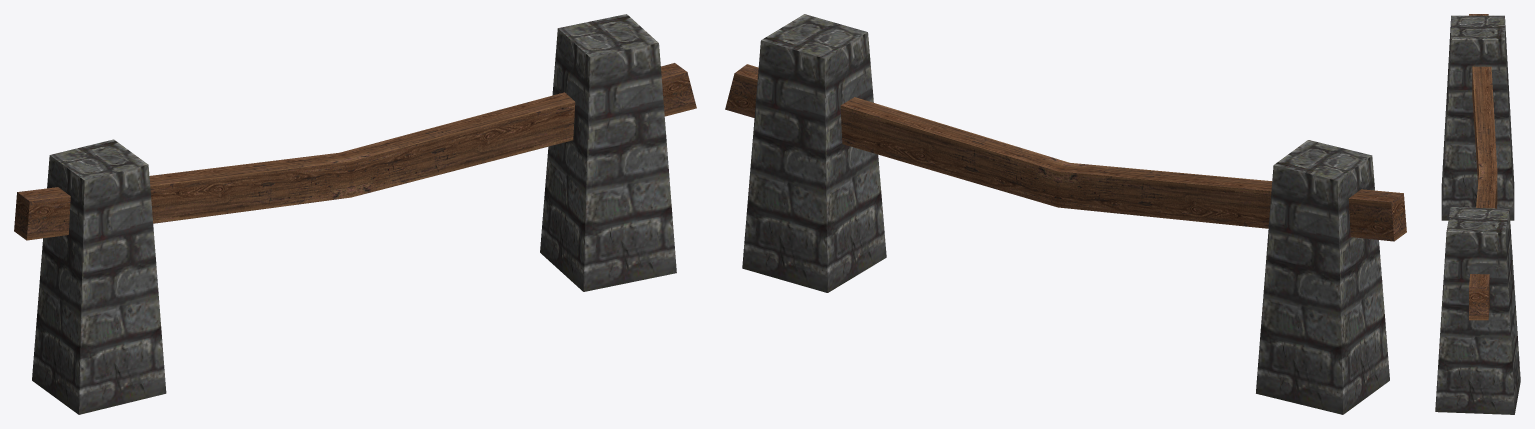
Rendered from KQZD_zhalan_1.FBX.
3 renders of one model, left to right at view 1: azimuth 30°, elevation 25°; view 2: azimuth 150°, elevation 25°; view 3: azimuth 270°, elevation 25°, orthographic. The views are drawn at different scales.
Parts seen in each view (by area): view 1: KQZD_zhalan_1; view 2: KQZD_zhalan_1; view 3: KQZD_zhalan_1.
Part boxes in pixels (<box>): KQZD_zhalan_1: <box>14,14,696,414</box>; KQZD_zhalan_1: <box>725,14,1406,414</box>; KQZD_zhalan_1: <box>1435,14,1520,414</box>.
Size of the model in its own units: 261 by 37.2 by 84.45.
